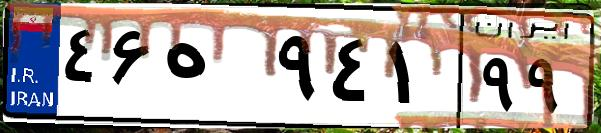1: (385, 28, 445, 110)
4: (330, 28, 385, 110), (57, 26, 110, 100)
6: (110, 28, 158, 98)
9: (270, 28, 330, 110), (475, 38, 525, 113), (525, 38, 570, 115)
ه: (158, 20, 270, 120)
